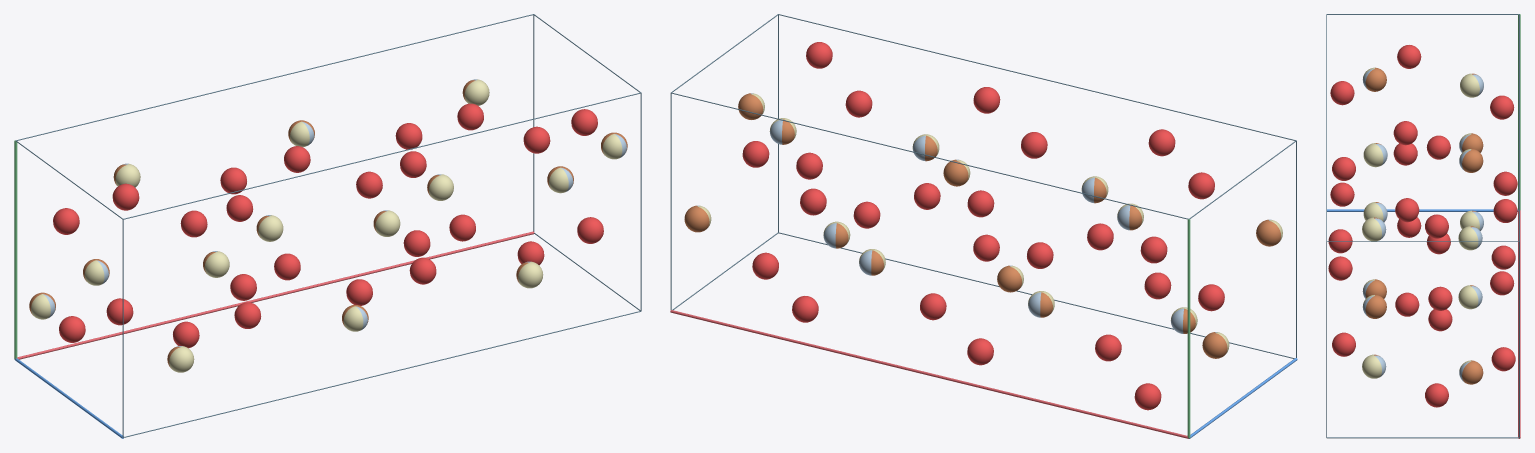
File: columbite.glb
3 views of the same model, side by side, from view 1: azimuth 30°, elevation 25°; view 2: azimuth 150°, elevation 25°; view 3: azimuth 270°, elevation 25° (orthographic). The views are drawn at different scales.
Visible parts, largest first — view 1: Ô mạng và các trục a, b, c; view 2: Ô mạng và các trục a, b, c; view 3: O2 · O · 1 (×8), O3 · O · 1 (×8), O1 · O · 1 (×8), NbB · Nb · 0.614 (×8), Ô mạng và các trục a, b, c, FeA · Fe · 0.638 (×6).
Boxes of the visible parts, x1,y1,x2,y2 form: Ô mạng và các trục a, b, c: [14, 14, 641, 438]; Ô mạng và các trục a, b, c: [670, 14, 1297, 438]; O2 · O · 1 (×8): [1332, 95, 1514, 356]; O3 · O · 1 (×8): [1330, 81, 1515, 371]; O1 · O · 1 (×8): [1328, 45, 1517, 407]; NbB · Nb · 0.614 (×8): [1362, 73, 1479, 378]; Ô mạng và các trục a, b, c: [1326, 14, 1520, 438]; FeA · Fe · 0.638 (×6): [1365, 67, 1483, 384].
Size of the model in its own units: 14.86 by 5.77 by 5.15.
